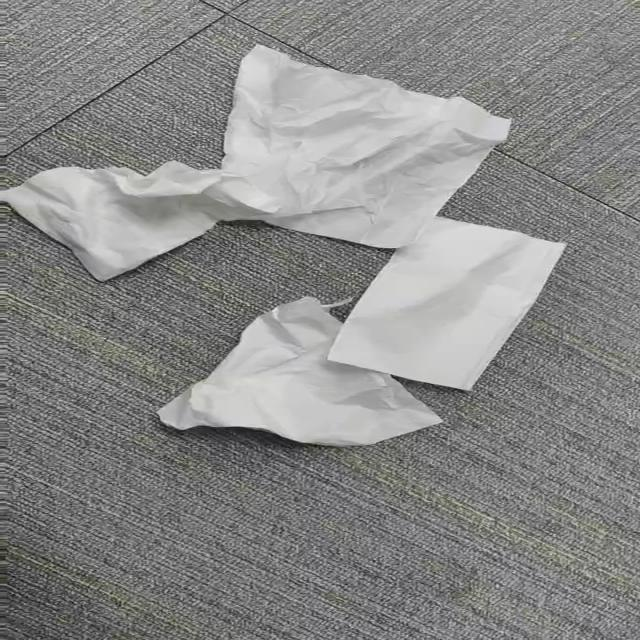paper: (0, 46, 509, 280), (159, 298, 441, 446), (329, 218, 564, 390)
